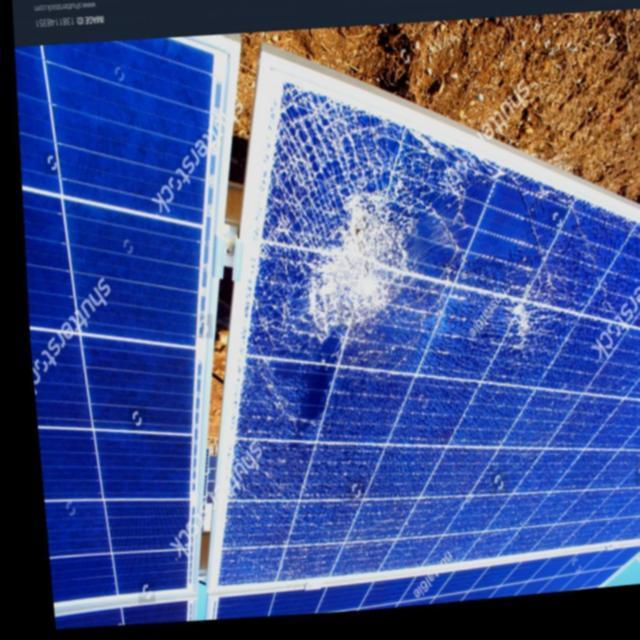cracked: (219, 51, 640, 542)
